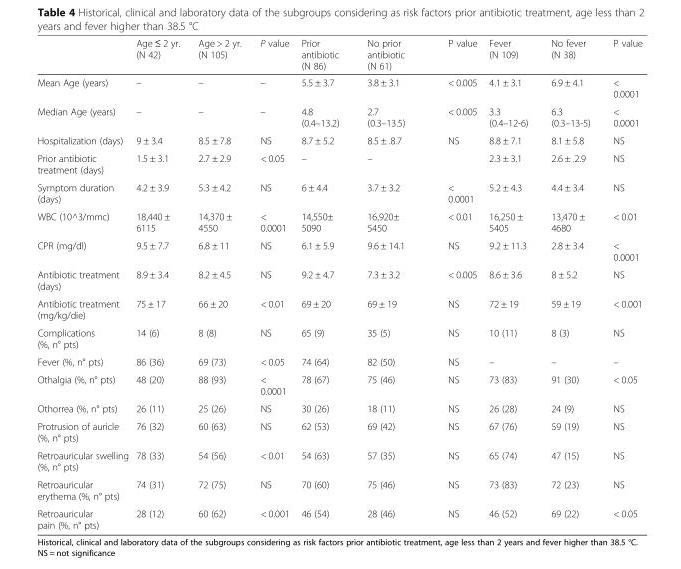table: (36, 36, 641, 530)
table column: (36, 36, 131, 530), (352, 36, 425, 530), (538, 36, 601, 530), (188, 36, 250, 530), (294, 36, 352, 530), (131, 36, 188, 530), (425, 36, 482, 530), (482, 36, 538, 530), (250, 36, 294, 530), (601, 36, 641, 530)
table column header: (36, 36, 641, 73)
table row: (36, 36, 641, 73), (36, 73, 641, 102), (36, 102, 641, 131), (36, 149, 641, 178), (36, 178, 641, 207), (36, 207, 641, 236), (36, 236, 641, 265), (36, 265, 641, 294), (36, 294, 641, 323), (36, 323, 641, 352), (36, 370, 641, 399), (36, 417, 641, 446), (36, 446, 641, 475), (36, 475, 641, 504), (36, 504, 641, 530), (36, 131, 641, 149), (36, 352, 641, 370), (36, 399, 641, 417)
